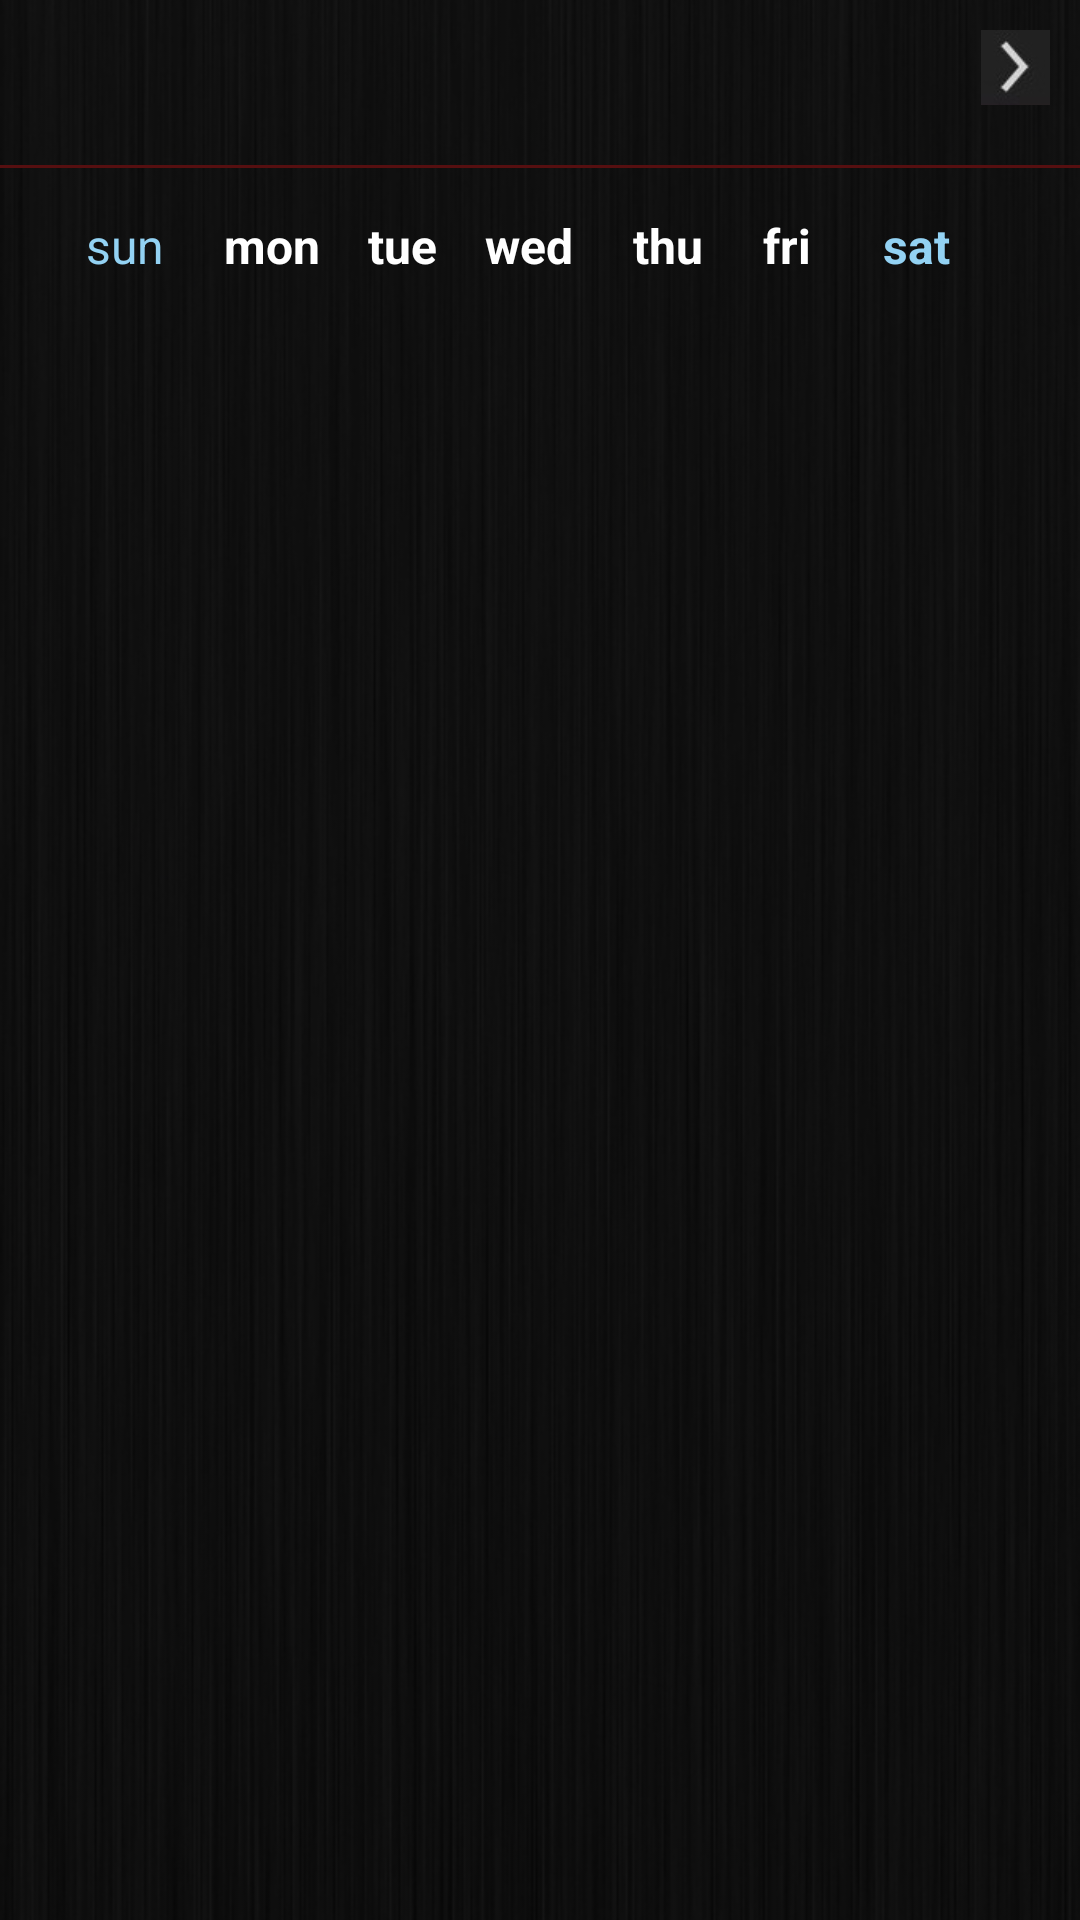

Where to tap for icons on this 1080 × 1920 app screen, as point (x, y):
custom rightarrow: point (1015, 67)
